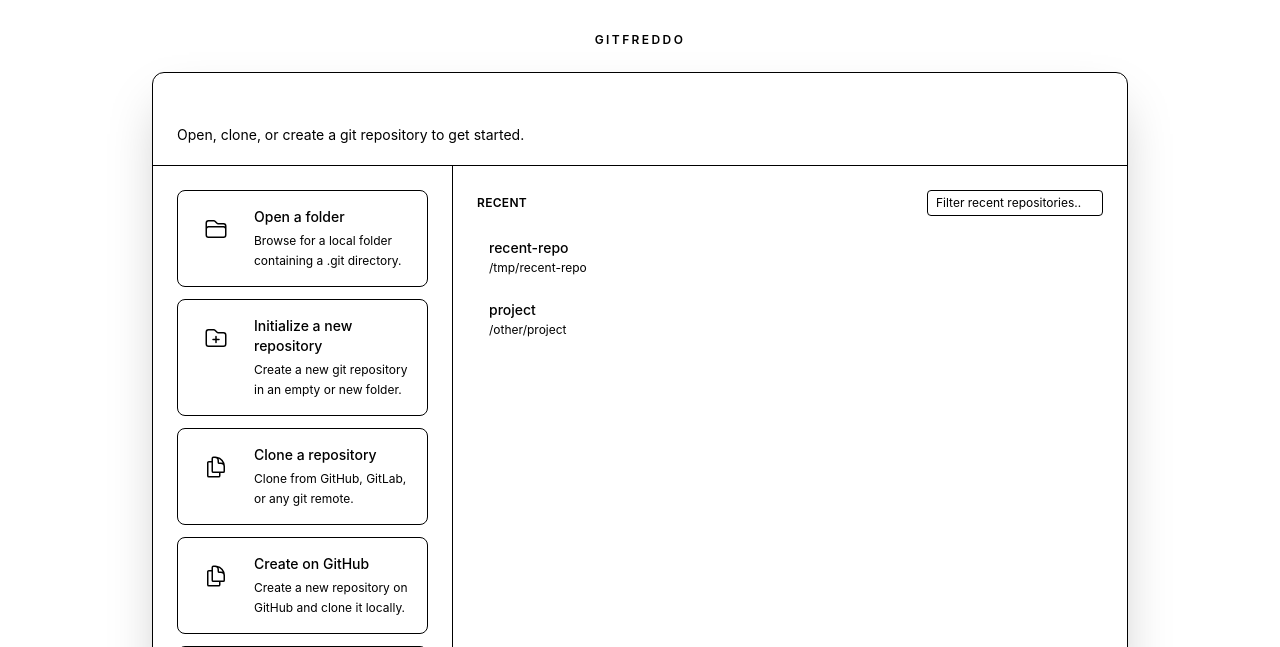
WorkspaceHub › shows no matches when recent filter excludes all repos
Expected: the button "recent-repo /tmp/recent-repo" is shown, [477, 228, 1103, 286]
Type "zzzzz" into the search field with placeholder "Filter recent repositories…" at (1015, 203), box [927, 190, 1103, 216]
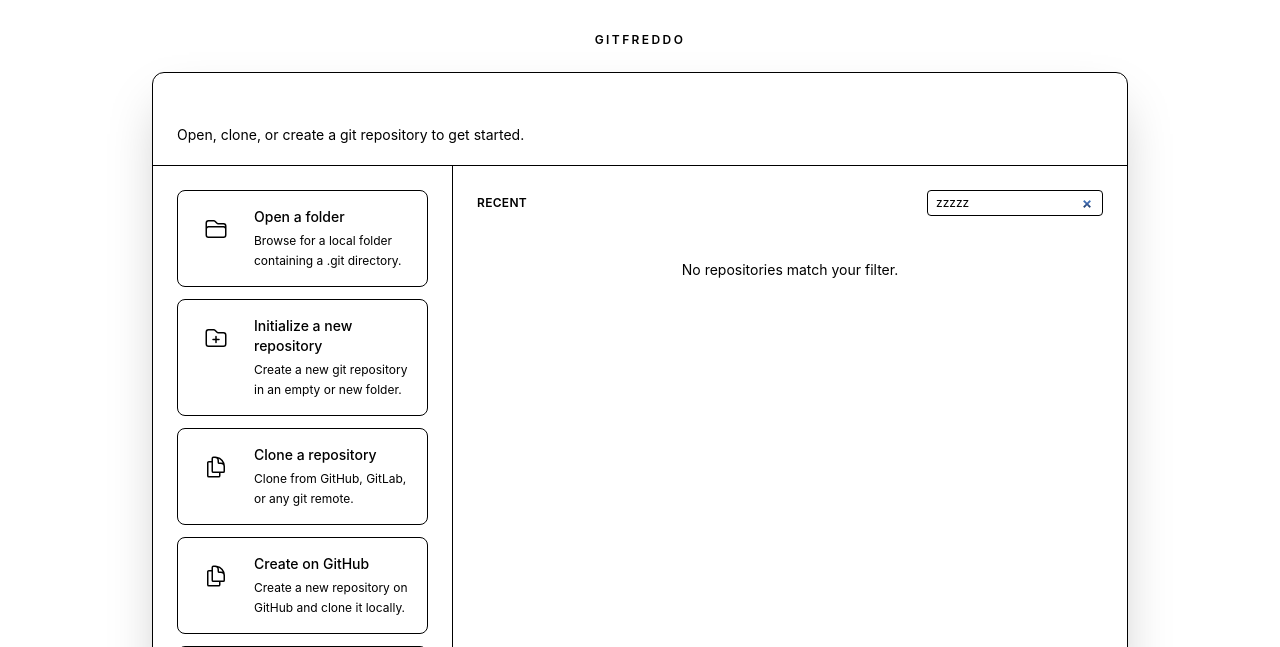
Result: the text "No repositories match your filter." is shown at [682, 261, 898, 278]
